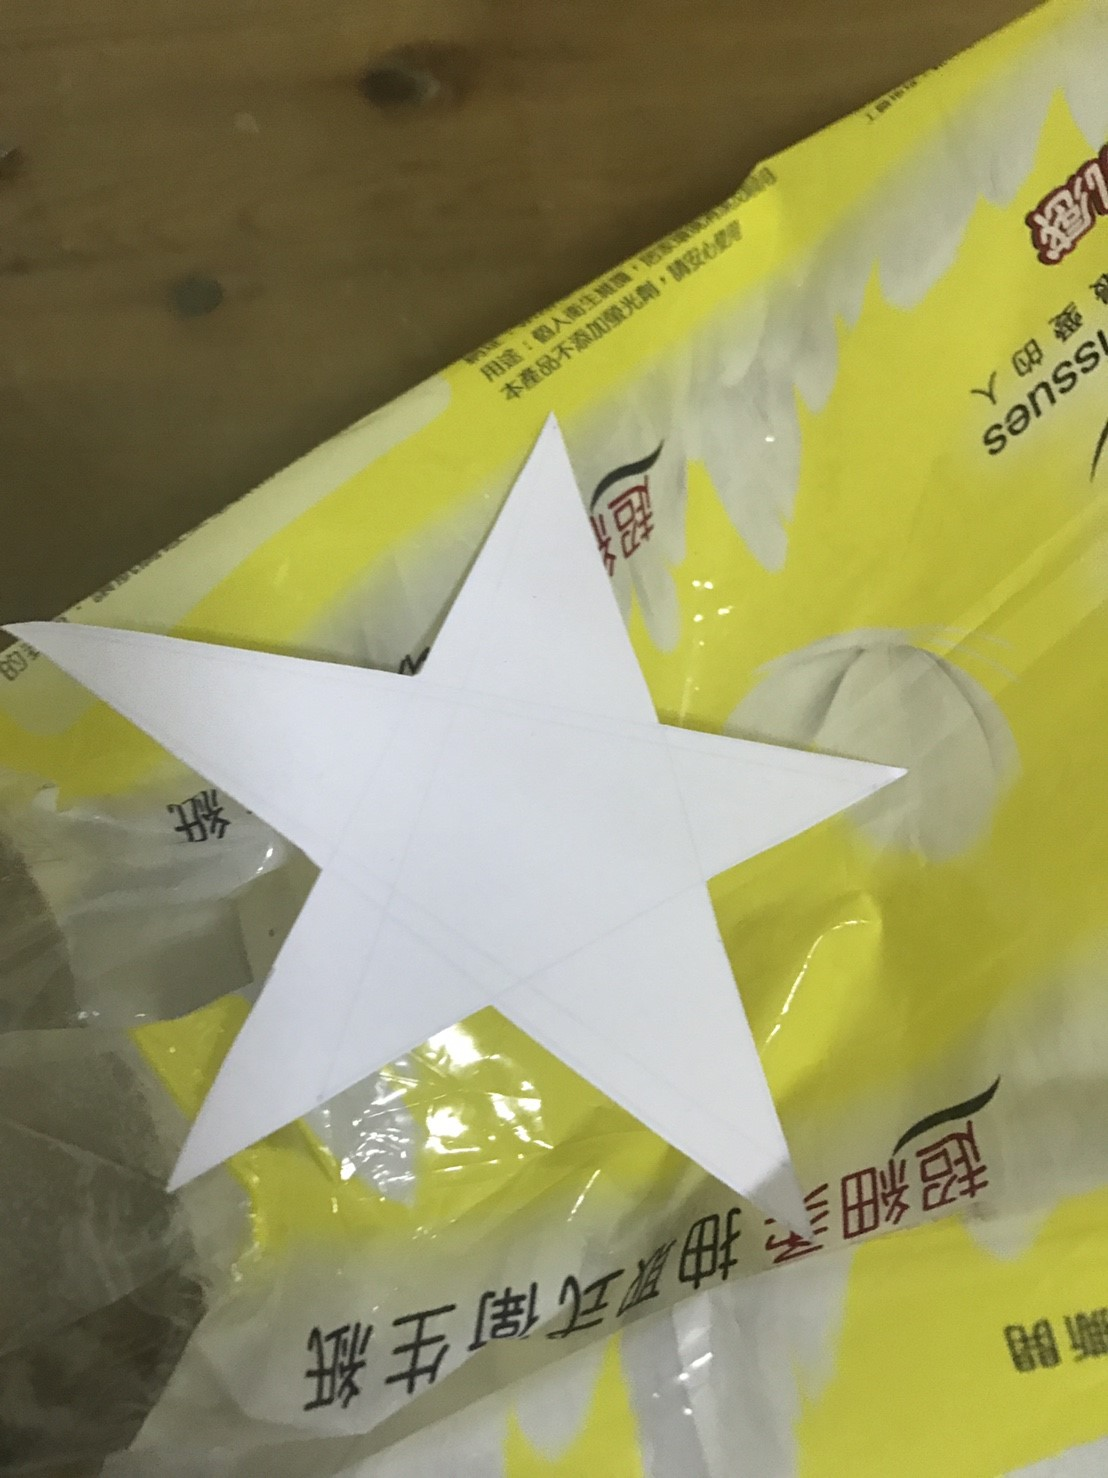star: (5, 356, 938, 1299)
